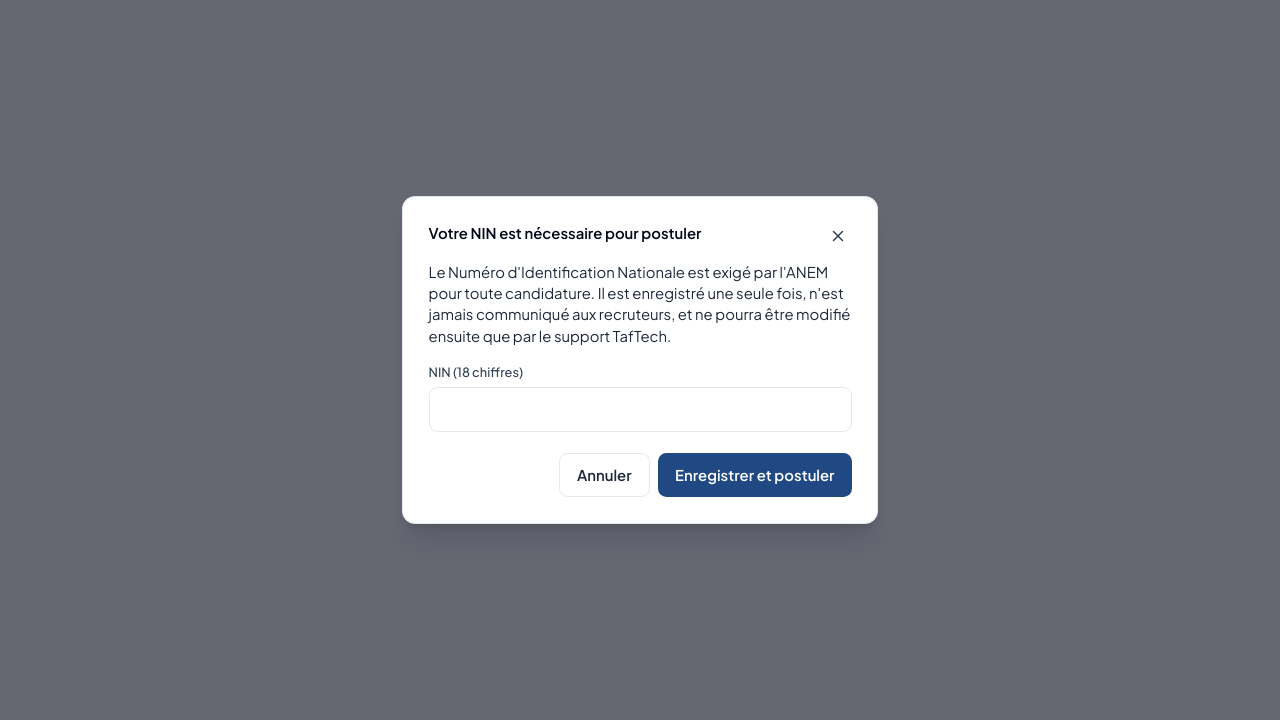
Test: ModalNIN › refuse un NIN qui n'a pas 18 chiffres, avec le message sous le champ et sans appel serveur
In the field labelled "NIN (18 chiffres)": {"x": 640, "y": 409} [428,387,852,432], type "12345"
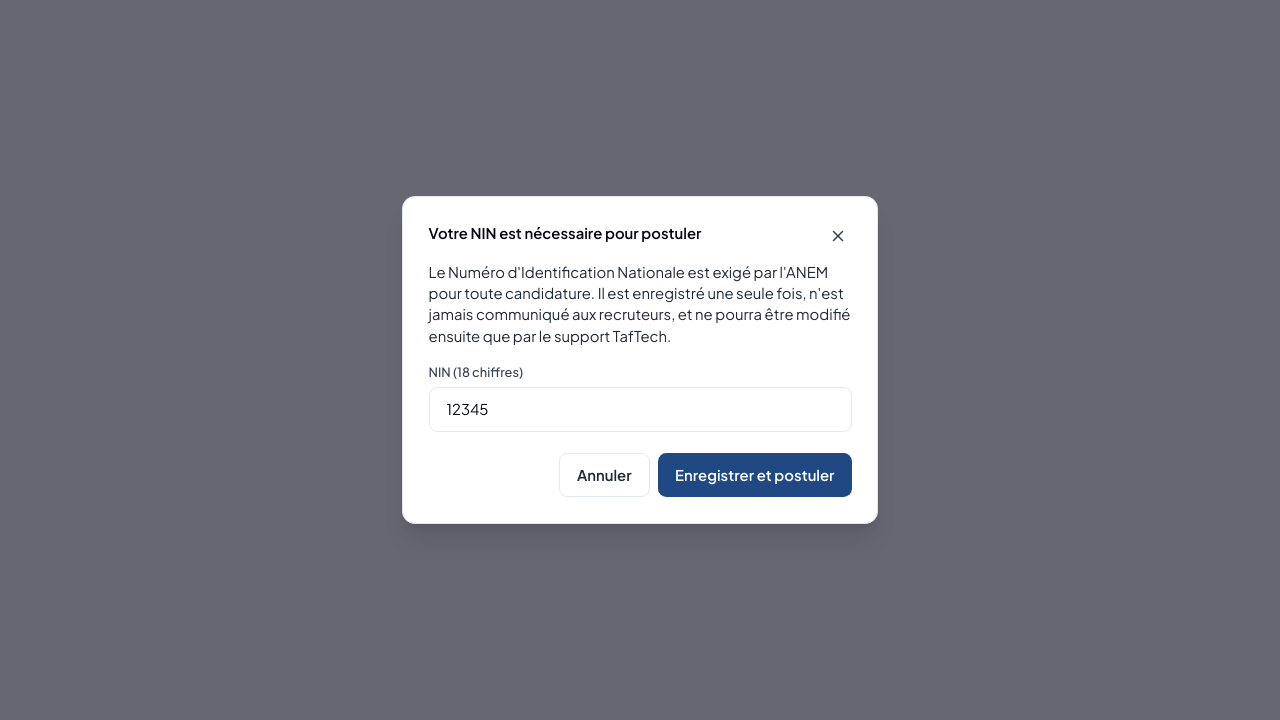
Click the button "Enregistrer et postuler": {"x": 755, "y": 475} [658,453,852,497]
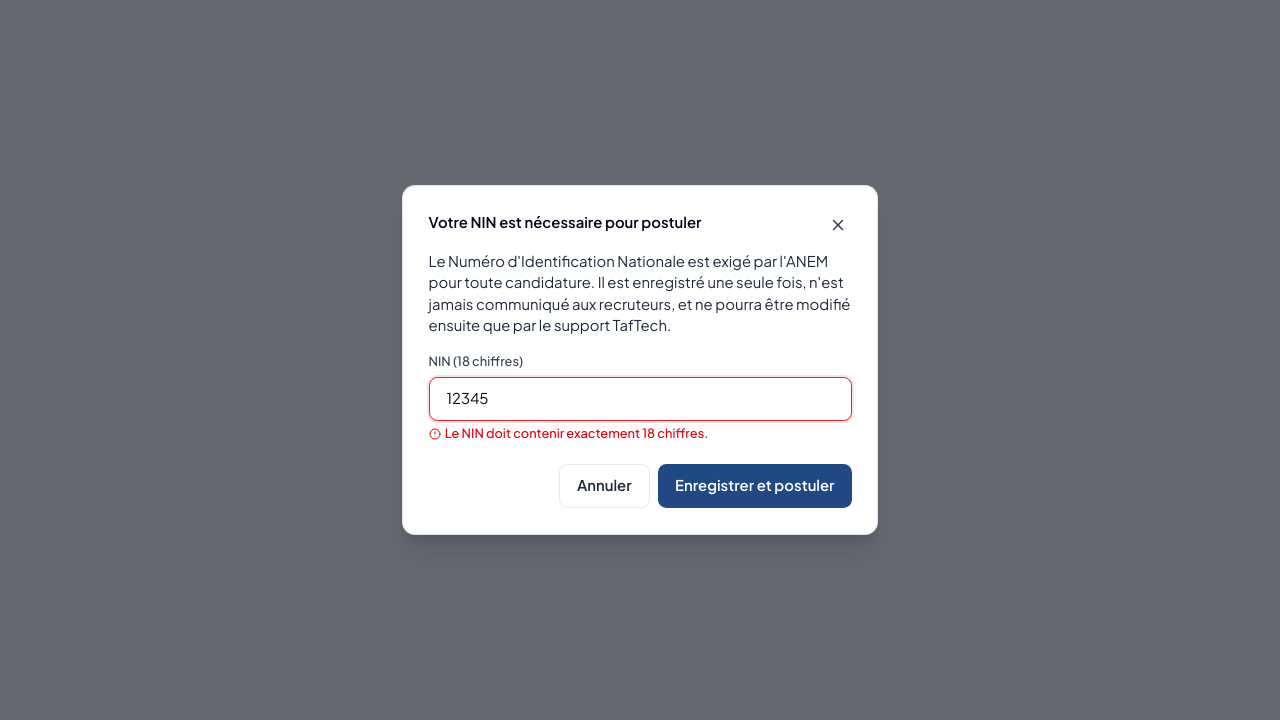
Expected: the text "Le NIN doit contenir exactement 18 chiffres." is shown, [428,425,708,441]
